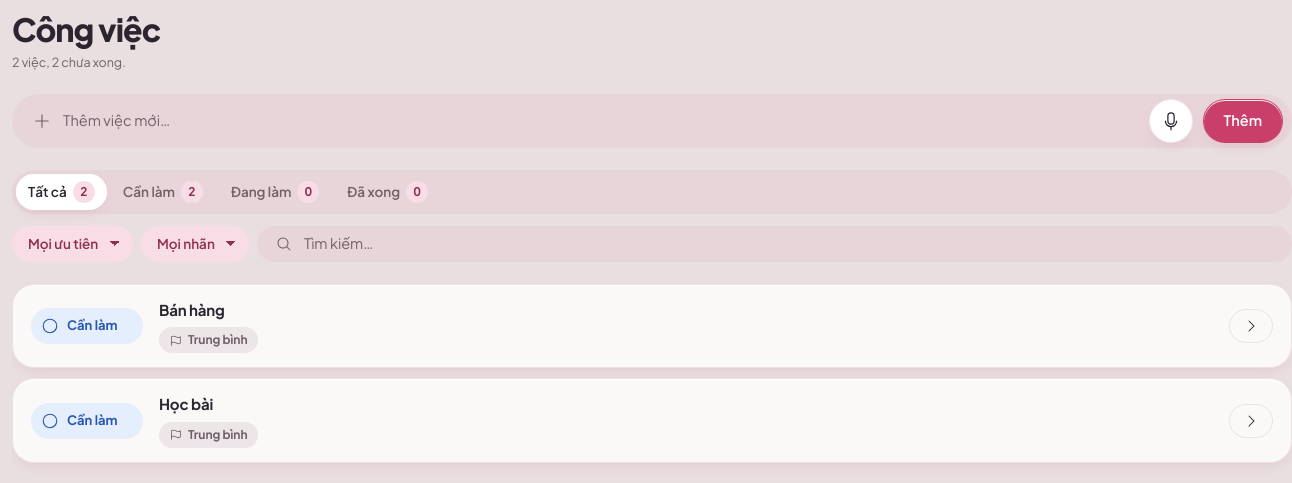
Test: TasksPage › search ignores diacritics
Type "ban hang" into the search field at (788, 244), box [302,232,1273,256]
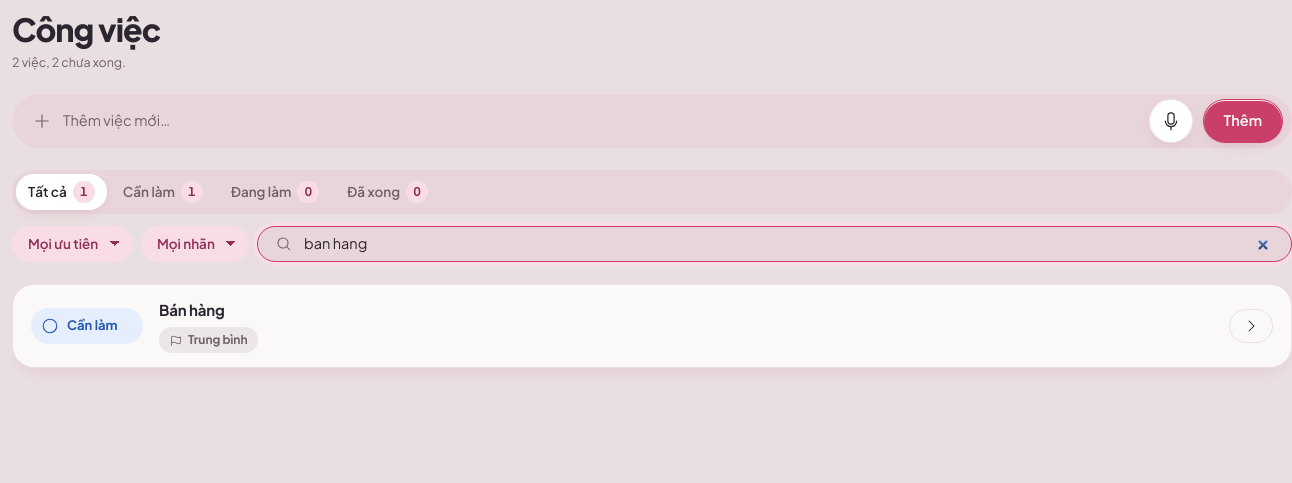
Expected: the button "Bán hàng" is shown, [159,299,1213,321]
Expected: the button "Học bài" is gone
